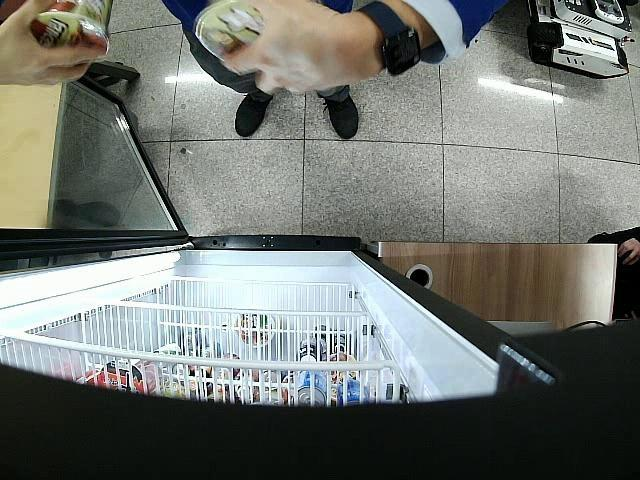03_chapagetti_L: (194, 0, 262, 62), (32, 0, 108, 51)
